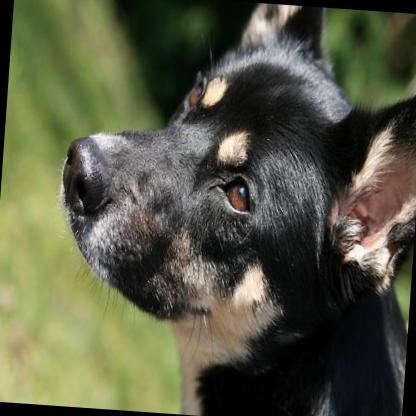Appenzeller: (42, 0, 416, 416)
